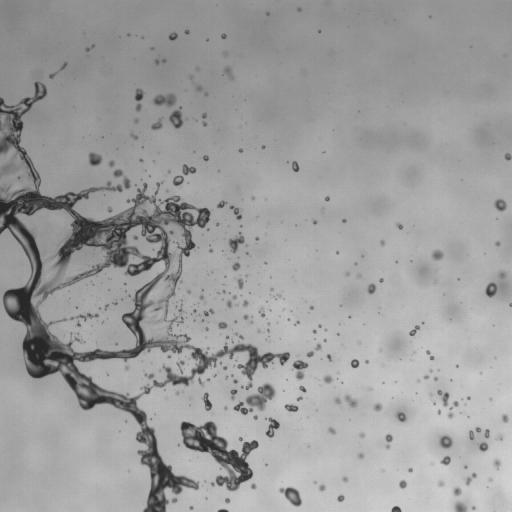droplet: (290, 360, 308, 381), (228, 231, 244, 253), (152, 93, 176, 107), (169, 106, 183, 129), (264, 417, 279, 437), (376, 433, 393, 449), (438, 434, 453, 449), (437, 389, 449, 407), (88, 152, 102, 166), (229, 205, 242, 220), (462, 472, 477, 485), (222, 65, 234, 80), (485, 282, 497, 297), (150, 117, 163, 130), (494, 198, 507, 211), (394, 410, 407, 422), (284, 403, 298, 414), (453, 500, 467, 511), (408, 325, 420, 337), (431, 249, 444, 260), (366, 283, 377, 295), (141, 94, 152, 105), (161, 104, 172, 115), (161, 119, 172, 130), (102, 169, 113, 180), (3, 173, 14, 184), (11, 180, 22, 191), (38, 185, 49, 196), (168, 185, 179, 196), (125, 187, 136, 198), (72, 201, 83, 212), (81, 208, 92, 219), (92, 211, 103, 222), (174, 283, 185, 294), (237, 288, 248, 299), (270, 299, 281, 310), (214, 300, 225, 311), (245, 304, 256, 315), (232, 305, 243, 316), (296, 308, 307, 319), (309, 311, 320, 322), (206, 315, 217, 326), (253, 316, 264, 327), (301, 320, 312, 331), (15, 321, 26, 332), (235, 321, 246, 332), (271, 343, 282, 354), (16, 350, 27, 361), (238, 351, 249, 362), (323, 363, 334, 374), (51, 371, 62, 382), (252, 375, 263, 386), (235, 390, 246, 401), (272, 393, 283, 404), (135, 399, 146, 410), (385, 405, 396, 416), (192, 416, 203, 427), (495, 421, 506, 432), (256, 433, 267, 444), (231, 441, 242, 452), (201, 450, 212, 461), (244, 453, 255, 464), (162, 486, 173, 497), (137, 496, 148, 507), (322, 374, 334, 384), (477, 441, 489, 451), (243, 314, 253, 325), (349, 358, 360, 368), (492, 458, 501, 470), (218, 321, 231, 329), (373, 402, 383, 412), (440, 455, 450, 465), (452, 486, 462, 496), (216, 200, 228, 208), (398, 479, 407, 489), (203, 308, 214, 316), (129, 131, 138, 140), (494, 432, 503, 441), (221, 57, 230, 66), (193, 74, 202, 83), (43, 78, 52, 87), (26, 88, 35, 97), (7, 145, 16, 154), (93, 146, 102, 155), (32, 160, 41, 169), (98, 160, 107, 169), (122, 168, 131, 177), (113, 176, 122, 185), (157, 190, 166, 199), (207, 202, 216, 211), (190, 224, 199, 233), (228, 253, 237, 262), (349, 265, 358, 274), (235, 268, 244, 277), (12, 280, 21, 289), (182, 303, 191, 312), (171, 325, 180, 334), (315, 330, 324, 339), (325, 330, 334, 339), (320, 344, 329, 353), (220, 354, 229, 363), (204, 366, 213, 375), (233, 368, 242, 377), (43, 373, 52, 382), (239, 375, 248, 384), (430, 381, 439, 390), (249, 386, 258, 395), (125, 412, 134, 421), (132, 422, 141, 431), (475, 433, 484, 442), (139, 442, 148, 451), (439, 447, 448, 456), (141, 465, 150, 474), (171, 467, 180, 476), (219, 467, 228, 476), (402, 472, 411, 481), (239, 480, 248, 489), (456, 493, 465, 502), (449, 494, 458, 503), (168, 32, 178, 40), (232, 261, 240, 271), (501, 413, 509, 423), (292, 161, 299, 172), (498, 270, 506, 279), (327, 426, 336, 434), (0, 153, 6, 164), (505, 199, 511, 210), (163, 505, 174, 511), (288, 505, 299, 511), (337, 494, 345, 502), (318, 483, 325, 492), (504, 153, 511, 161), (395, 222, 403, 229), (299, 385, 306, 393), (437, 480, 445, 487), (0, 306, 5, 317), (326, 353, 332, 362), (484, 428, 489, 438), (108, 160, 115, 167), (106, 206, 113, 213), (293, 319, 300, 326), (296, 394, 303, 401), (357, 452, 364, 459), (177, 31, 184, 38), (150, 51, 157, 58), (231, 68, 238, 75), (188, 84, 195, 91), (160, 89, 167, 96), (31, 101, 38, 108), (171, 103, 178, 110), (132, 110, 139, 117), (19, 114, 26, 121), (20, 127, 27, 134), (135, 138, 142, 145), (26, 150, 33, 157), (82, 155, 89, 162), (113, 162, 120, 169), (166, 175, 173, 182), (72, 186, 79, 193), (144, 189, 151, 196), (491, 207, 498, 214), (432, 243, 439, 250), (224, 244, 231, 251), (426, 255, 433, 262), (435, 258, 442, 265), (500, 264, 507, 271), (349, 271, 356, 278), (493, 277, 500, 284), (361, 283, 368, 290), (223, 293, 230, 300), (243, 293, 250, 300), (236, 296, 243, 303), (196, 306, 203, 313), (242, 306, 249, 313), (166, 312, 173, 319), (237, 317, 244, 324), (225, 318, 232, 325), (249, 323, 256, 330), (221, 327, 228, 334), (16, 337, 23, 344), (233, 337, 240, 344), (241, 338, 248, 345), (251, 340, 258, 347), (307, 343, 314, 350), (278, 346, 285, 353), (256, 348, 263, 355), (313, 350, 320, 357), (301, 355, 308, 362), (272, 356, 279, 363), (286, 357, 293, 364), (199, 372, 206, 379), (317, 372, 324, 379), (298, 378, 305, 385), (330, 379, 337, 386), (62, 381, 69, 388), (165, 381, 172, 388), (176, 382, 183, 389), (271, 382, 278, 389), (323, 382, 330, 389), (150, 386, 157, 393), (435, 397, 442, 404), (446, 397, 453, 404), (290, 398, 297, 405), (369, 398, 376, 405), (264, 399, 271, 406), (341, 400, 348, 407), (380, 401, 387, 408), (93, 402, 100, 409), (252, 406, 259, 413), (441, 406, 448, 413), (451, 406, 458, 413), (212, 418, 219, 425), (145, 419, 152, 426), (215, 429, 222, 436), (378, 433, 385, 440), (433, 439, 440, 446), (156, 447, 163, 454), (249, 448, 256, 455), (162, 458, 169, 465), (488, 464, 495, 471), (464, 469, 471, 476), (184, 471, 191, 478), (292, 482, 299, 489), (458, 482, 465, 489), (143, 486, 150, 493), (226, 490, 233, 497), (298, 491, 305, 498), (175, 492, 182, 499), (283, 499, 290, 506), (140, 501, 147, 508), (506, 271, 511, 280), (202, 155, 209, 161), (311, 218, 317, 225), (131, 234, 138, 240), (494, 240, 500, 247), (358, 432, 365, 438), (250, 483, 257, 489), (213, 221, 221, 226), (380, 239, 385, 247), (201, 326, 209, 331), (222, 51, 228, 57), (133, 118, 139, 124), (342, 476, 348, 482), (0, 130, 4, 139), (0, 215, 4, 224), (356, 272, 361, 279), (257, 328, 264, 333), (422, 374, 429, 379), (221, 33, 226, 39), (154, 59, 159, 65), (324, 195, 329, 201), (112, 299, 117, 305), (233, 379, 239, 384), (253, 414, 258, 420), (408, 467, 413, 473), (225, 497, 230, 503), (507, 413, 511, 420), (448, 507, 455, 511), (465, 507, 472, 511), (184, 29, 189, 34), (202, 121, 207, 126), (238, 148, 243, 153), (345, 271, 350, 276), (186, 289, 191, 294), (309, 305, 314, 310), (364, 359, 369, 364), (124, 365, 129, 370), (433, 376, 438, 381), (223, 405, 228, 410), (165, 30, 170, 35), (172, 38, 177, 43), (88, 48, 93, 53), (58, 60, 63, 65), (150, 61, 155, 66), (49, 68, 54, 73), (218, 68, 223, 73), (53, 74, 58, 79), (33, 76, 38, 81), (202, 86, 207, 91), (45, 87, 50, 92), (198, 90, 203, 95), (130, 92, 135, 97), (21, 93, 26, 98), (41, 96, 46, 101), (37, 98, 42, 103), (138, 98, 143, 103), (3, 99, 8, 104), (133, 99, 138, 104), (180, 115, 185, 120), (203, 117, 208, 122), (151, 118, 156, 123), (21, 122, 26, 127), (146, 122, 151, 127), (179, 124, 184, 129), (154, 128, 159, 133), (133, 130, 138, 135), (128, 136, 133, 141), (18, 141, 23, 146), (239, 143, 244, 148), (203, 150, 208, 155), (207, 153, 212, 158), (500, 156, 505, 161), (287, 162, 292, 167), (92, 164, 97, 169), (110, 166, 115, 171), (146, 169, 151, 174), (126, 174, 131, 179), (182, 174, 187, 179), (142, 177, 147, 182), (128, 180, 133, 185), (101, 181, 106, 186), (181, 181, 186, 186), (94, 182, 99, 187), (84, 184, 89, 189), (138, 184, 143, 189), (103, 189, 108, 194), (60, 190, 65, 195), (87, 191, 92, 196), (154, 194, 159, 199), (495, 194, 500, 199), (498, 194, 503, 199), (80, 196, 85, 201), (502, 196, 507, 201), (214, 199, 219, 204), (129, 201, 134, 206), (199, 203, 204, 208), (223, 203, 228, 208), (217, 207, 222, 212), (501, 209, 506, 214), (109, 211, 114, 216), (313, 215, 318, 220), (238, 218, 243, 223), (307, 219, 312, 224), (400, 220, 405, 225), (204, 222, 209, 227), (201, 226, 206, 231), (3, 227, 8, 232), (492, 236, 497, 241), (191, 237, 196, 242), (243, 237, 248, 242), (384, 239, 389, 244), (375, 241, 380, 246), (499, 241, 504, 246), (16, 243, 21, 248), (188, 248, 193, 253), (20, 250, 25, 255), (22, 254, 27, 259), (355, 256, 360, 261), (237, 258, 242, 263), (229, 260, 234, 265), (227, 265, 232, 270), (240, 275, 245, 280), (503, 276, 508, 281), (366, 279, 371, 284), (233, 281, 238, 286), (374, 281, 379, 286), (242, 282, 247, 287), (481, 285, 486, 290), (238, 288, 243, 293), (495, 288, 500, 293), (373, 289, 378, 294), (196, 290, 201, 295), (271, 290, 276, 295), (202, 291, 207, 296), (280, 291, 285, 296), (219, 292, 224, 297), (483, 294, 488, 299), (491, 294, 496, 299), (168, 296, 173, 301), (194, 296, 199, 301), (230, 299, 235, 304), (221, 300, 226, 305), (262, 302, 267, 307), (181, 305, 186, 310), (211, 305, 216, 310), (230, 305, 235, 310), (285, 305, 290, 310), (263, 309, 268, 314), (174, 310, 179, 315), (181, 312, 186, 317), (286, 312, 291, 317), (203, 315, 208, 320), (195, 316, 200, 321), (220, 317, 225, 322), (290, 318, 295, 323), (270, 320, 275, 325), (415, 320, 420, 325), (171, 321, 176, 326), (202, 321, 207, 326), (213, 323, 218, 328), (313, 324, 318, 329), (419, 324, 424, 329), (315, 327, 320, 332), (237, 329, 242, 334), (202, 330, 207, 335), (187, 339, 192, 344), (320, 341, 325, 346), (17, 343, 22, 348), (194, 343, 199, 348), (218, 345, 223, 350), (305, 347, 310, 352), (271, 349, 276, 354), (346, 358, 351, 363), (358, 360, 363, 365), (266, 361, 271, 366), (223, 369, 228, 374), (423, 369, 428, 374), (25, 373, 30, 378), (251, 373, 256, 378), (330, 373, 335, 378), (428, 373, 433, 378), (209, 376, 214, 381), (228, 376, 233, 381), (319, 379, 324, 384), (203, 380, 208, 385), (234, 384, 239, 389), (202, 387, 207, 392), (441, 388, 446, 393), (298, 390, 303, 395), (350, 394, 355, 399), (207, 395, 212, 400), (339, 395, 344, 400), (455, 396, 460, 401), (233, 400, 238, 405), (356, 400, 361, 405), (457, 400, 462, 405), (200, 401, 205, 406), (334, 403, 339, 408), (210, 405, 215, 410), (77, 406, 82, 411), (350, 406, 355, 411), (283, 408, 288, 413), (377, 409, 382, 414), (236, 410, 241, 415), (403, 410, 408, 415), (246, 411, 251, 416), (145, 413, 150, 418), (497, 415, 502, 420), (184, 417, 189, 422), (394, 418, 399, 423), (265, 420, 270, 425), (401, 420, 406, 425), (502, 421, 507, 426), (176, 422, 181, 427), (278, 422, 283, 427), (331, 424, 336, 429), (263, 425, 268, 430), (323, 426, 328, 431), (361, 427, 366, 432), (176, 428, 181, 433), (355, 428, 360, 433), (480, 428, 485, 433), (441, 430, 446, 435), (472, 430, 477, 435), (153, 431, 158, 436), (390, 431, 395, 436), (131, 432, 136, 437), (327, 432, 332, 437), (448, 432, 453, 437), (464, 432, 469, 437), (364, 433, 369, 438), (178, 435, 183, 440), (252, 435, 257, 440), (355, 435, 360, 440), (246, 437, 251, 442), (358, 437, 363, 442), (388, 440, 393, 445), (474, 445, 479, 450), (358, 447, 363, 452), (381, 447, 386, 452), (188, 448, 193, 453), (385, 448, 390, 453), (194, 449, 199, 454), (477, 449, 482, 454), (483, 449, 488, 454), (237, 450, 242, 455), (352, 452, 357, 457), (363, 452, 368, 457), (136, 454, 141, 459), (438, 455, 443, 460), (358, 458, 363, 463), (499, 459, 504, 464), (247, 463, 252, 468), (440, 463, 445, 468), (340, 471, 345, 476), (347, 476, 352, 481), (471, 477, 476, 482), (316, 480, 321, 485), (339, 480, 344, 485), (432, 480, 437, 485), (254, 481, 259, 486), (394, 481, 399, 486), (487, 481, 492, 486), (405, 482, 410, 487), (282, 483, 287, 488), (314, 483, 319, 488), (324, 484, 329, 489), (439, 485, 444, 490), (403, 486, 408, 491), (398, 487, 403, 492), (321, 489, 326, 494), (448, 489, 453, 494), (340, 490, 345, 495), (334, 491, 339, 496), (279, 492, 284, 497), (341, 499, 346, 504), (392, 501, 397, 506), (221, 504, 226, 509), (387, 505, 392, 510), (399, 505, 404, 510), (202, 112, 206, 118), (429, 392, 433, 398), (437, 409, 441, 415), (0, 291, 3, 298), (296, 7, 301, 11), (161, 59, 166, 63), (138, 158, 143, 162), (251, 196, 255, 201), (342, 218, 346, 223), (254, 236, 259, 240), (208, 248, 213, 252), (360, 253, 364, 258), (379, 277, 383, 282), (269, 287, 274, 291), (357, 340, 361, 345), (428, 368, 433, 372), (367, 387, 372, 391), (488, 477, 492, 482), (312, 480, 317, 484), (189, 505, 193, 510), (471, 505, 475, 510), (266, 11, 270, 15), (195, 67, 199, 71), (204, 92, 208, 96), (261, 145, 265, 149), (312, 329, 316, 333), (378, 348, 382, 352), (466, 396, 470, 400), (430, 461, 434, 465), (463, 465, 467, 469), (321, 207, 324, 212), (196, 314, 201, 317), (508, 150, 511, 155), (508, 158, 511, 163), (318, 29, 321, 33), (126, 33, 130, 36), (150, 47, 154, 50), (322, 150, 326, 153), (152, 160, 156, 163), (165, 189, 168, 193), (336, 250, 339, 254), (268, 309, 271, 313), (101, 320, 104, 324), (233, 320, 237, 323), (318, 324, 321, 328), (323, 338, 326, 342), (114, 342, 118, 345), (381, 363, 384, 367), (479, 371, 482, 375), (206, 378, 210, 381), (416, 379, 420, 382), (489, 397, 492, 401), (124, 419, 127, 423), (381, 468, 384, 472), (428, 15, 431, 18), (206, 38, 209, 41), (217, 169, 220, 172), (264, 198, 267, 201), (206, 228, 209, 231), (245, 244, 248, 247), (264, 261, 267, 264), (395, 260, 398, 263), (354, 262, 357, 265), (457, 277, 460, 280), (123, 282, 126, 285), (107, 288, 110, 291), (201, 288, 204, 291), (127, 294, 130, 297), (339, 304, 342, 307), (98, 307, 101, 310), (282, 308, 285, 311), (348, 315, 351, 318), (287, 318, 290, 321), (421, 321, 424, 324), (324, 328, 327, 331), (336, 332, 339, 335), (336, 371, 339, 374), (381, 381, 384, 384), (394, 380, 397, 383), (265, 8, 268, 11), (262, 12, 265, 15), (265, 15, 268, 18), (185, 26, 188, 29), (317, 26, 320, 29), (188, 29, 191, 32), (128, 30, 131, 33), (320, 30, 323, 33), (224, 31, 227, 34), (315, 31, 318, 34), (128, 35, 131, 38), (225, 35, 228, 38), (203, 36, 206, 39), (218, 36, 221, 39), (221, 38, 224, 41), (207, 40, 210, 43), (87, 44, 90, 47), (82, 47, 85, 50), (151, 49, 154, 52), (158, 60, 161, 63), (64, 65, 67, 68), (223, 73, 226, 76), (140, 106, 143, 109), (199, 122, 202, 125), (204, 125, 207, 128), (103, 135, 106, 138), (258, 144, 261, 147), (143, 145, 146, 148), (236, 146, 239, 149), (264, 146, 267, 149), (139, 147, 142, 150), (242, 148, 245, 151), (320, 148, 323, 151), (237, 151, 240, 154), (240, 151, 243, 154), (322, 152, 325, 155), (200, 153, 203, 156), (141, 156, 144, 159), (200, 158, 203, 161), (283, 158, 286, 161), (206, 159, 209, 162), (139, 161, 142, 164), (297, 163, 300, 166), (195, 168, 198, 171), (164, 170, 167, 173), (292, 170, 295, 173), (180, 172, 183, 175), (38, 173, 41, 176), (157, 179, 160, 182), (159, 183, 162, 186), (154, 185, 157, 188), (115, 189, 118, 192), (252, 193, 255, 196), (323, 194, 326, 197), (254, 196, 257, 199), (329, 197, 332, 200), (223, 198, 226, 201), (324, 200, 327, 203), (233, 204, 236, 207), (233, 214, 236, 217), (340, 216, 343, 219), (495, 219, 498, 222), (218, 220, 221, 223), (339, 220, 342, 223), (342, 222, 345, 225), (314, 223, 317, 226), (218, 224, 221, 227), (395, 226, 398, 229), (238, 227, 241, 230), (401, 227, 404, 230), (240, 232, 243, 235), (255, 233, 258, 236), (252, 235, 255, 238), (258, 236, 261, 239), (13, 238, 16, 241), (255, 239, 258, 242), (193, 245, 196, 248), (209, 245, 212, 248), (212, 248, 215, 251), (332, 250, 335, 253), (338, 250, 341, 253), (248, 251, 251, 254), (209, 252, 212, 255), (245, 254, 248, 257), (363, 255, 366, 258), (409, 256, 412, 259), (393, 257, 396, 260), (264, 258, 267, 261), (397, 259, 400, 262), (260, 260, 263, 263), (351, 260, 354, 263), (392, 261, 395, 264), (262, 263, 265, 266), (356, 263, 359, 266), (181, 264, 184, 267), (207, 270, 210, 273), (220, 274, 223, 277), (456, 274, 459, 277), (271, 275, 274, 278), (223, 277, 226, 280), (455, 279, 458, 282), (380, 281, 383, 284), (200, 285, 203, 288), (266, 287, 269, 290), (174, 288, 177, 291), (203, 288, 206, 291), (218, 289, 221, 292), (225, 289, 228, 292), (250, 290, 253, 293), (184, 292, 187, 295), (236, 294, 239, 297), (264, 297, 267, 300), (271, 297, 274, 300), (199, 299, 202, 302), (182, 300, 185, 303), (507, 300, 510, 303), (177, 302, 180, 305), (310, 302, 313, 305), (193, 305, 196, 308), (269, 305, 272, 308), (176, 306, 179, 309), (338, 306, 341, 309), (271, 308, 274, 311), (307, 308, 310, 311), (376, 308, 379, 311), (189, 309, 192, 312), (195, 310, 198, 313), (207, 311, 210, 314), (192, 312, 195, 315), (347, 312, 350, 315), (201, 313, 204, 316), (247, 313, 250, 316), (263, 315, 266, 318), (284, 316, 287, 319), (348, 317, 351, 320), (421, 318, 424, 321), (299, 320, 302, 323), (319, 321, 322, 324), (267, 325, 270, 328), (292, 325, 295, 328), (202, 328, 205, 331), (254, 328, 257, 331), (269, 328, 272, 331), (264, 330, 267, 333), (338, 330, 341, 333), (181, 331, 184, 334), (268, 332, 271, 335), (313, 333, 316, 336), (334, 334, 337, 337), (222, 335, 225, 338), (409, 335, 412, 338), (266, 337, 269, 340), (326, 338, 329, 341), (409, 350, 412, 353), (423, 351, 426, 354), (412, 353, 415, 356), (426, 354, 429, 357), (330, 356, 333, 359), (351, 356, 354, 359), (355, 356, 358, 359), (365, 356, 368, 359), (433, 356, 436, 359), (429, 359, 432, 362), (329, 361, 332, 364), (234, 362, 237, 365), (221, 363, 224, 366), (348, 364, 351, 367), (452, 364, 455, 367), (458, 364, 461, 367), (353, 367, 356, 370), (455, 367, 458, 370), (336, 374, 339, 377), (214, 375, 217, 378), (447, 376, 450, 379), (451, 376, 454, 379), (337, 378, 340, 381), (424, 378, 427, 381), (283, 379, 286, 382), (379, 379, 382, 382), (436, 379, 439, 382), (342, 380, 345, 383), (384, 380, 387, 383), (339, 383, 342, 386), (381, 383, 384, 386), (303, 385, 306, 388), (414, 388, 417, 391), (228, 392, 231, 395), (142, 393, 145, 396), (200, 393, 203, 396), (466, 393, 469, 396), (388, 395, 391, 398), (463, 396, 466, 399), (470, 396, 473, 399), (466, 399, 469, 402), (187, 400, 190, 403), (429, 401, 432, 404), (297, 406, 300, 409), (221, 408, 224, 411), (296, 409, 299, 412), (434, 410, 437, 413), (465, 412, 468, 415), (436, 414, 439, 417), (251, 418, 254, 421), (477, 424, 480, 427), (488, 431, 491, 434), (264, 434, 267, 437), (270, 436, 273, 439), (502, 436, 505, 439), (257, 441, 260, 444), (449, 457, 452, 460), (265, 460, 268, 463), (261, 463, 264, 466), (408, 464, 411, 467), (265, 465, 268, 468), (460, 465, 463, 468), (411, 467, 414, 470), (474, 470, 477, 473), (197, 483, 200, 486), (208, 483, 211, 486), (251, 488, 254, 491), (334, 495, 337, 498), (207, 496, 210, 499), (189, 502, 192, 505), (474, 504, 477, 507), (192, 505, 195, 508), (216, 292, 220, 294), (106, 371, 108, 375), (140, 36, 143, 38), (193, 150, 195, 153), (286, 160, 288, 163), (148, 174, 150, 177), (186, 181, 189, 183), (240, 224, 242, 227), (294, 224, 297, 226), (152, 248, 154, 251), (237, 256, 239, 259), (269, 275, 271, 278), (248, 292, 251, 294), (121, 298, 123, 301), (175, 305, 177, 308), (75, 306, 78, 308), (289, 310, 292, 312), (193, 319, 196, 321), (338, 322, 340, 325), (456, 364, 458, 367), (450, 378, 452, 381), (340, 381, 343, 383), (282, 389, 285, 391), (315, 409, 318, 411), (307, 445, 310, 447), (265, 463, 267, 466), (127, 470, 130, 472), (203, 480, 206, 482), (205, 496, 207, 499), (509, 306, 511, 309), (189, 509, 192, 511), (472, 509, 475, 511), (141, 146, 143, 148), (144, 169, 146, 171), (140, 178, 142, 180), (134, 184, 136, 186), (256, 216, 258, 218), (197, 246, 199, 248), (410, 260, 412, 262), (224, 275, 226, 277), (240, 294, 242, 296), (221, 298, 223, 300), (265, 300, 267, 302), (278, 315, 280, 317), (276, 321, 278, 323), (363, 323, 365, 325), (494, 357, 496, 359), (399, 358, 401, 360), (490, 366, 492, 368), (437, 369, 439, 371), (415, 392, 417, 394), (461, 398, 463, 400), (464, 403, 466, 405), (467, 416, 469, 418), (118, 430, 120, 432), (102, 136, 103, 138), (108, 278, 110, 279), (443, 293, 444, 295), (205, 336, 206, 338), (286, 378, 287, 380), (336, 378, 338, 379), (307, 416, 308, 418), (487, 486, 488, 488), (104, 194, 105, 195), (496, 218, 497, 219), (154, 413, 155, 414)
ligament: (233, 382, 276, 415), (172, 164, 196, 188), (277, 486, 302, 507), (333, 393, 357, 408), (49, 62, 67, 78), (201, 392, 214, 414), (134, 88, 145, 111), (306, 342, 322, 357), (189, 75, 203, 92), (446, 401, 459, 419), (269, 292, 285, 300), (265, 321, 271, 342), (426, 349, 434, 361), (230, 388, 237, 401), (258, 305, 265, 317), (199, 293, 206, 303), (85, 44, 94, 51), (102, 303, 109, 312), (390, 506, 402, 511), (212, 370, 219, 377), (225, 373, 233, 379), (222, 289, 231, 294), (175, 390, 184, 395), (190, 308, 196, 315), (411, 349, 417, 355), (217, 508, 229, 511), (165, 169, 170, 176), (431, 398, 436, 405), (201, 319, 209, 323), (245, 252, 251, 257), (90, 280, 94, 285), (315, 377, 319, 381), (192, 119, 197, 121), (459, 412, 464, 414), (211, 269, 213, 273), (221, 283, 225, 285), (197, 302, 199, 306), (509, 302, 511, 306)
